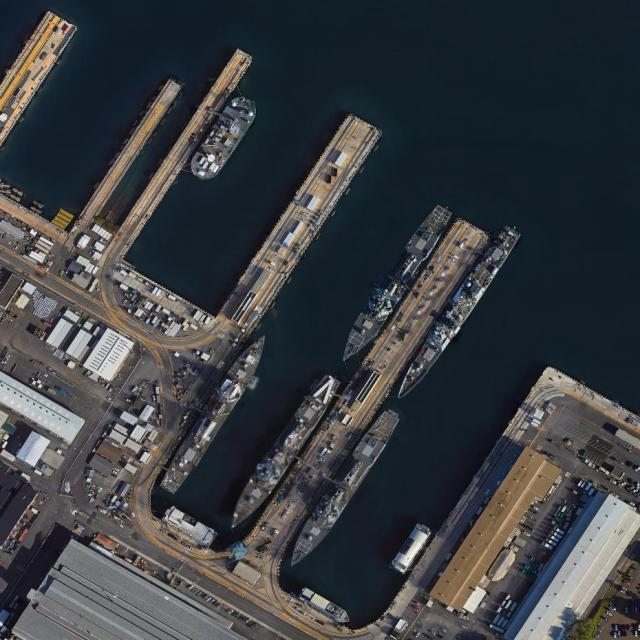Cruiser: (390, 223, 520, 403)
Destroyer: (279, 406, 405, 571), (221, 368, 343, 535), (157, 328, 273, 496)
Dock: (244, 215, 493, 560), (216, 111, 383, 340), (108, 47, 255, 259), (79, 76, 184, 222)
Frigate: (336, 198, 456, 366)
Other Ship: (186, 88, 264, 187)
